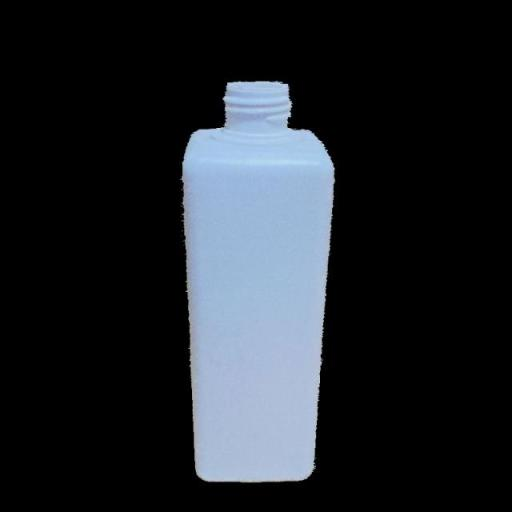plastic: (176, 76, 338, 485)
